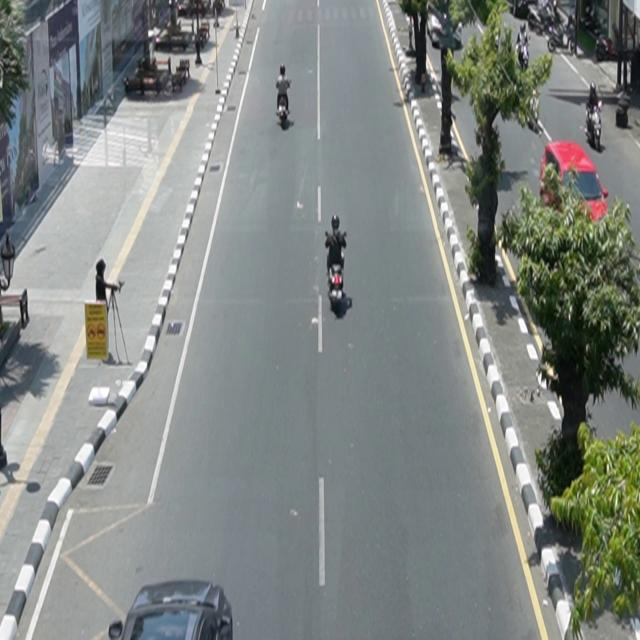car: (109, 580, 234, 640), (540, 141, 610, 225)
